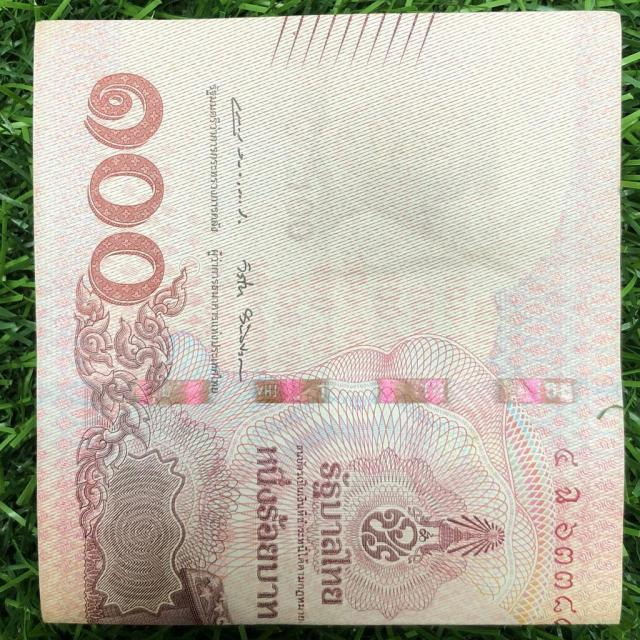THAI100: (34, 12, 622, 624)
